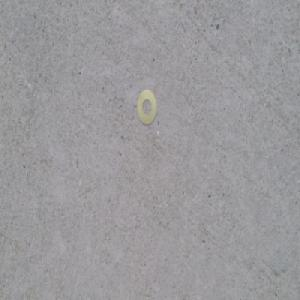Washer: (137, 90, 157, 128)
